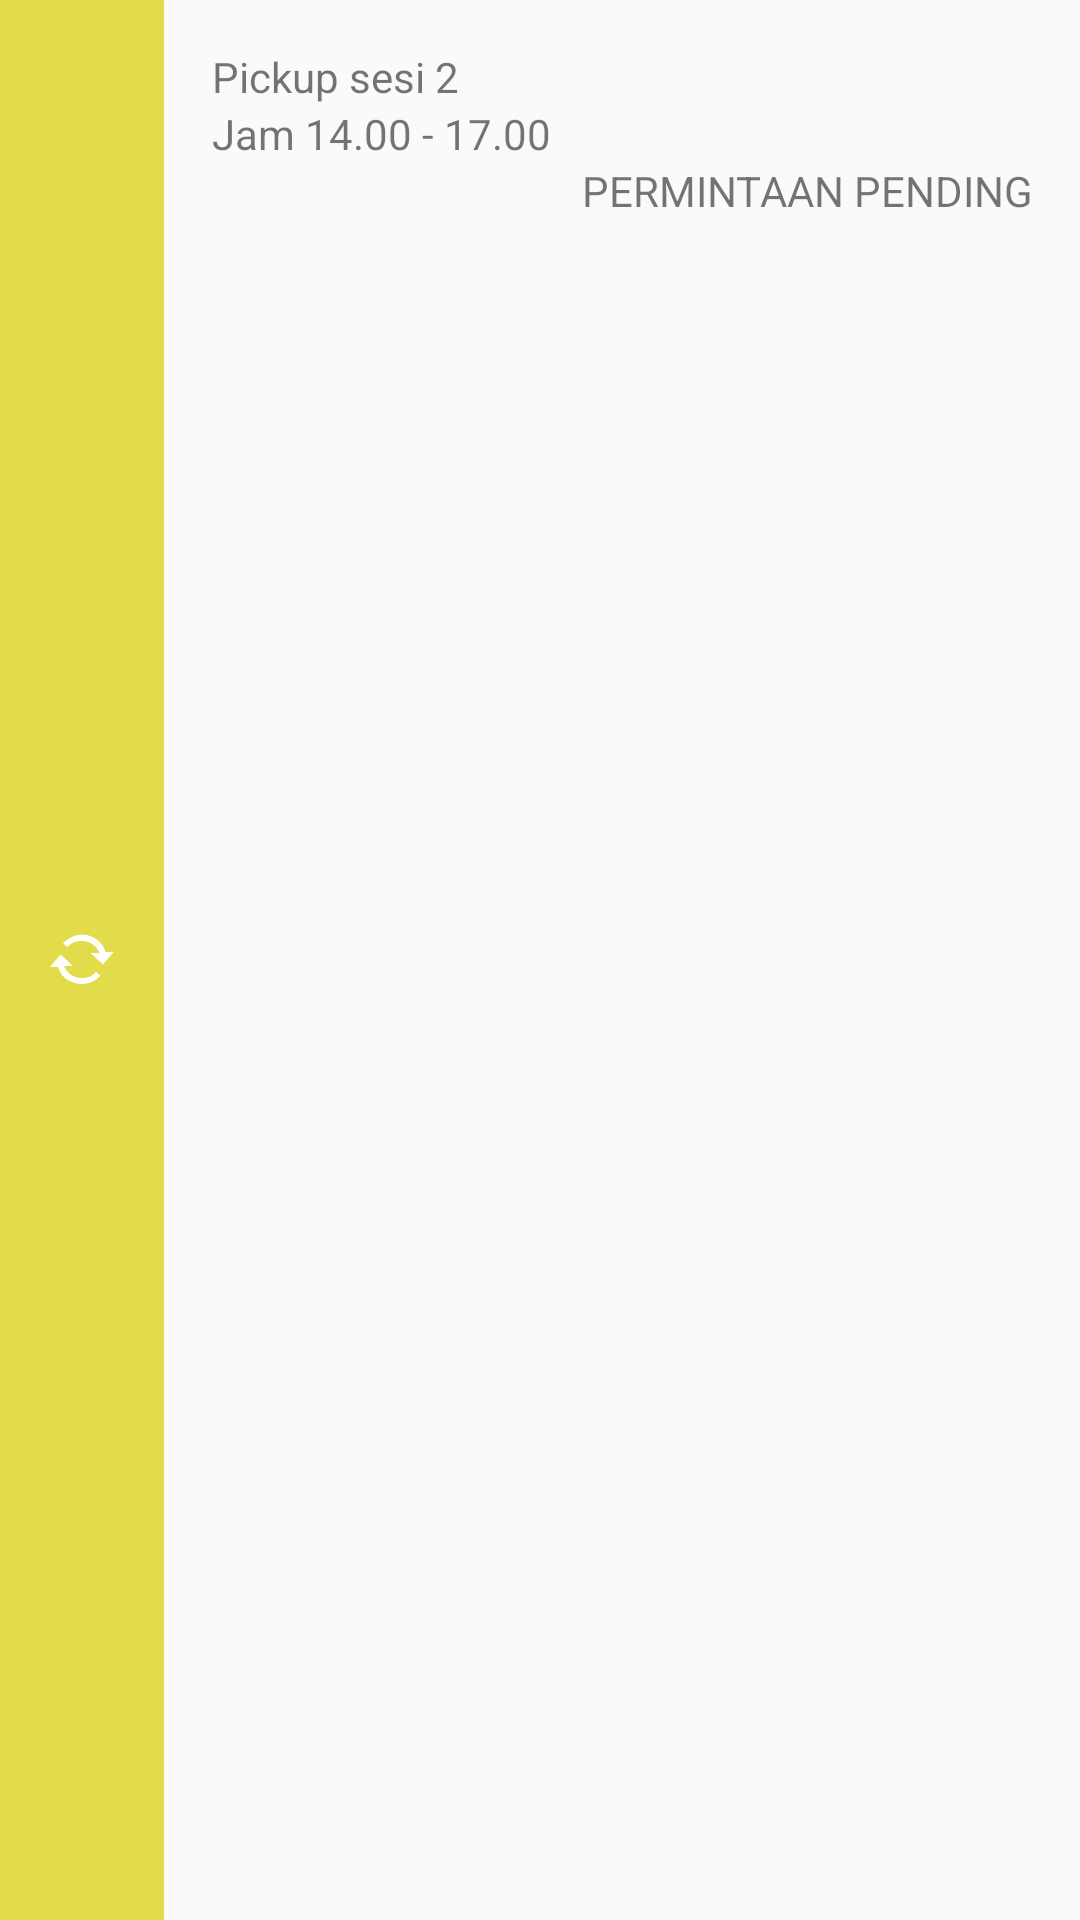

Icon bounding boxes for this 1080 × 1920 phone screenshot, format (x1, y1, x2, y2):
sync noanim: (50, 934, 114, 984)
